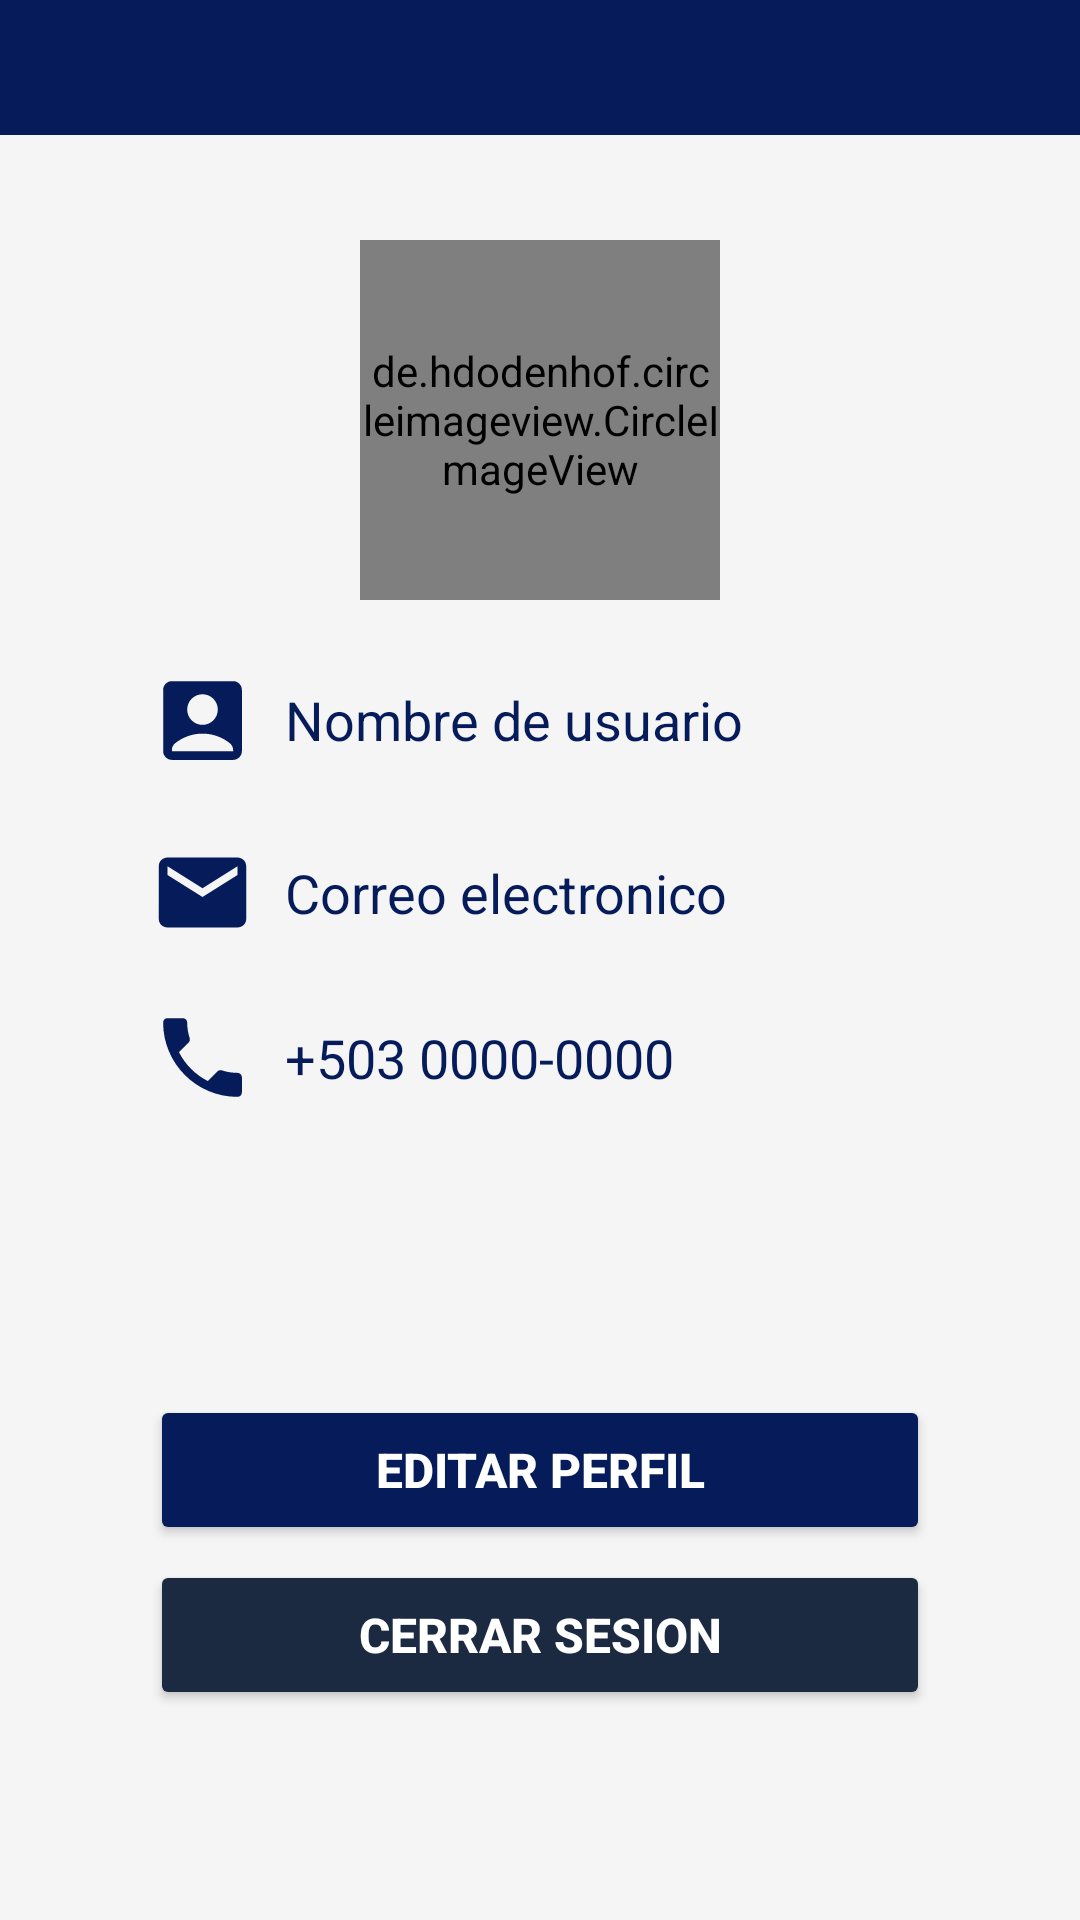

Point at icon controls on the screen. Image size 1080×1920, points as (x=x, y=y).
account box: (x=202, y=720)
email: (x=202, y=892)
phone: (x=202, y=1057)
